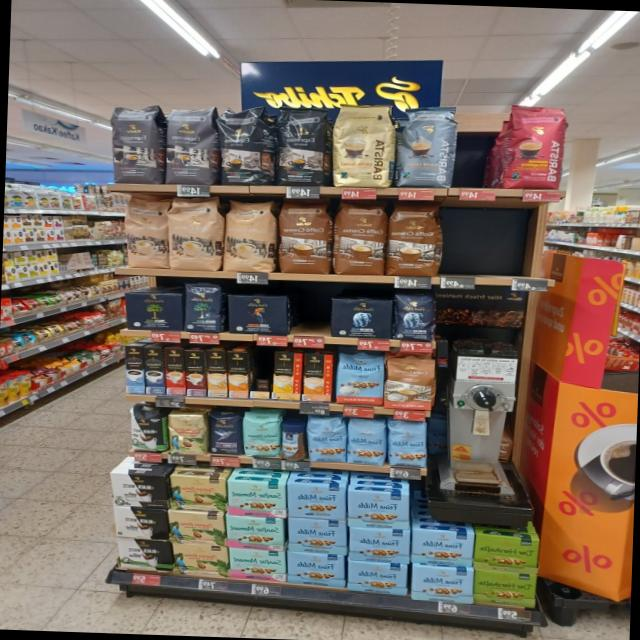AB Bohne: (392, 292, 435, 342)
AB Gemahlen: (330, 296, 392, 339)
BM Bohne: (182, 282, 224, 333)
BM Gemahlen: (122, 291, 184, 331)
BW Bohne: (128, 406, 164, 451)
BW Gemahlen: (108, 472, 168, 508), (112, 506, 168, 539), (118, 539, 172, 570)
Barista CB: (330, 102, 394, 188)
Barista CC: (396, 102, 458, 188)
Barista Kolumbien: (501, 104, 566, 189)
C Fino Bohne: (206, 411, 242, 455)
CC Mild: (166, 194, 222, 272), (222, 197, 276, 273), (124, 194, 168, 268)
CC Vollmundig: (383, 356, 437, 411)
CC Vollmundig 36 Pads: (384, 202, 443, 276), (334, 200, 386, 276), (278, 198, 330, 273)
Colombia BB Bohne: (165, 411, 206, 455)
Colombia BB Gemahlen: (168, 476, 226, 512), (171, 543, 228, 577), (166, 511, 224, 544)
Espresso Aromatisch: (107, 102, 160, 184), (164, 104, 213, 184)
Espresso Kraftig: (214, 104, 272, 185), (274, 106, 330, 188)
FM 36 Pads: (336, 352, 384, 404)
FM Bohne: (386, 420, 428, 468), (304, 416, 346, 462), (346, 418, 386, 466)
FM Gemahlen: (411, 564, 474, 604), (410, 528, 474, 566), (346, 491, 411, 528), (284, 482, 346, 520), (347, 526, 411, 562), (286, 518, 348, 555), (286, 552, 346, 588), (346, 560, 408, 594)
FM Instant: (279, 419, 306, 462)
Herzhatfe Mundig: (472, 534, 540, 574), (472, 569, 540, 608)
LG Gemahlen: (226, 293, 290, 336)
SM Bohne: (240, 414, 280, 458)
SM Gemahlen: (224, 481, 286, 516), (224, 514, 284, 550), (227, 546, 286, 582)
Simo CCMild: (272, 350, 302, 400)
Simo CCVollmundig: (302, 353, 334, 401)
Simo CCVollmundig bigpack: (227, 350, 248, 398)
Simo Decaff: (205, 350, 227, 397)
Simo Es Brazil: (164, 347, 186, 395)
Simo Es Caramel: (183, 349, 206, 396)
Simo Es Kraft: (142, 346, 164, 394)
Simo Es Vanilla: (124, 345, 144, 393)
